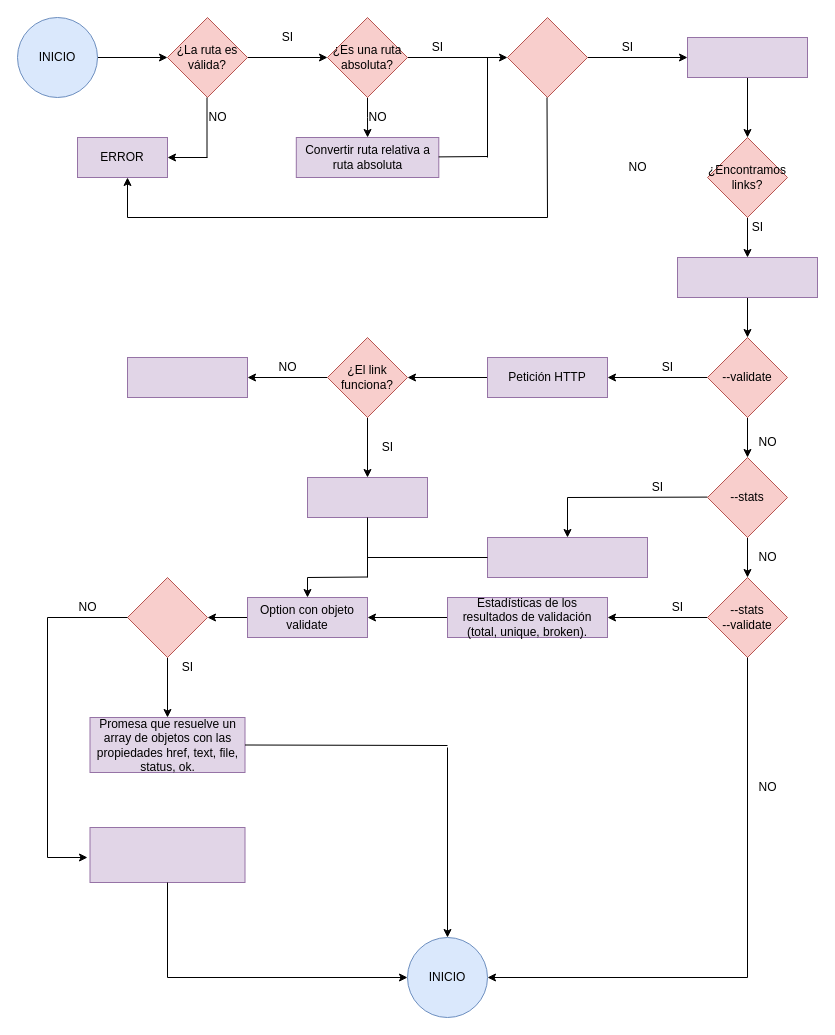
This 835x1035 diagram has some shape labels left out. The centre of each missing label's shape, as x and y in pixels:
Devolver array con links encontrados, ruta de archivo y texto del link: the point at 747,277
Output texto con estadísticas básicas de los links (total, unique).: the point at 567,557
Promesa que resuelve un array de objetos con las propiedades href, text, file.: the point at 167,854
Recorrer el archivo y buscar links: the point at 747,57
URL + "Fail" + status: the point at 187,377
URL + "OK" + status: the point at 367,497
¿Existe un archivo .md?: the point at 547,57
¿Validate: true?: the point at 167,617
